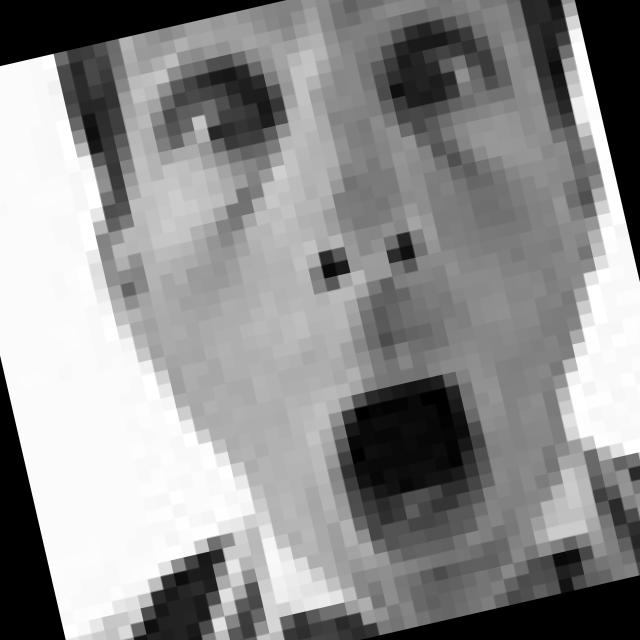surprise: (119, 0, 616, 595)
